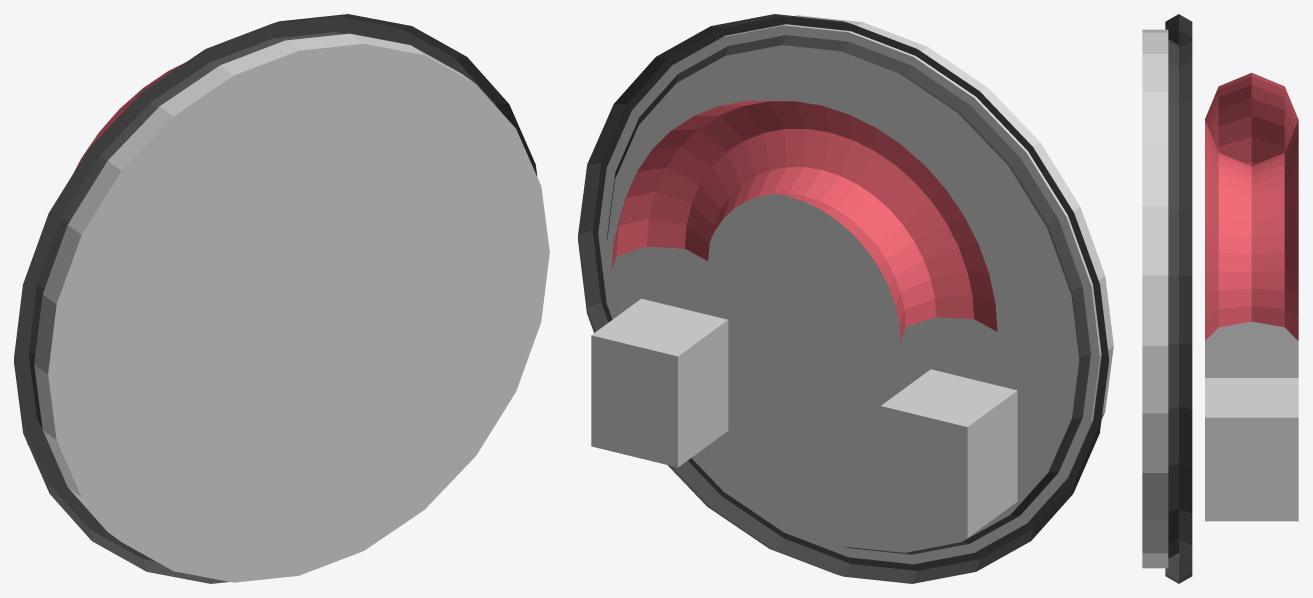
File: Magnet.glb
3 views of the same model, side by side, from view 1: azimuth 30°, elevation 25°; view 2: azimuth 150°, elevation 25°; view 3: azimuth 270°, elevation 25° (orthographic). The views are drawn at different scales.
Visible parts, largest first — view 1: Magnet; view 2: Magnet; view 3: Magnet.
Part boxes in pixels (x1,y1,x2,y2): Magnet: (14,14,549,583); Magnet: (578,14,1113,583); Magnet: (1142,14,1298,583).
Size of the model in its own units: 1.1 by 1.1 by 0.3.
